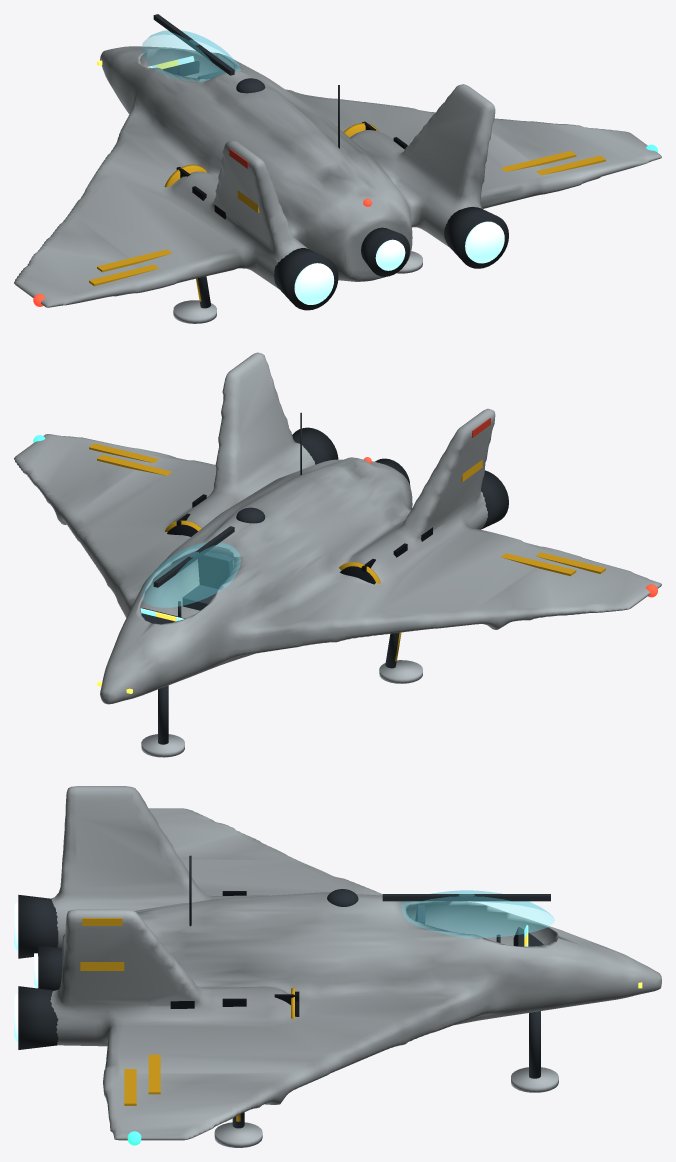
Rendered from lander.glb.
3 renders of one model, top to bottom at view 1: azimuth 30°, elevation 25°; view 2: azimuth 150°, elevation 25°; view 3: azimuth 270°, elevation 25°, orthographic. The views are drawn at different scales.
Parts seen in each view (by area): view 1: Hull, Canopy, Nozzle1, Nozzle-1, Exhaust1, Exhaust-1, CentreNozzle, GearLPad, CanopySpine, CentreExhaust, WingStripe-1, WingStripe1 (+2 smaller); view 2: Hull, Canopy, Nozzle-1, SeatBack, Nozzle1, GearLPad, GearNPad, CanopySpine, GearNStrut, Seat; view 3: Hull, Canopy, Nozzle1, Nozzle-1, CanopySpine, CentreNozzle, GearRPad, GearNPad, GearNStrut, WingStripe1.
Part boxes in pixels (box(x1,y1,x2,y2)): Hull: box(14, 46, 661, 307); Canopy: box(142, 30, 240, 81); Nozzle1: box(444, 207, 508, 268); Nozzle-1: box(274, 248, 338, 310); Exhaust1: box(465, 221, 504, 263); Exhaust-1: box(294, 263, 334, 304); CentreNozzle: box(361, 227, 410, 276); GearLPad: box(173, 300, 216, 323); CanopySpine: box(153, 14, 234, 75); CentreExhaust: box(375, 239, 405, 270); WingStripe-1: box(97, 249, 171, 272); WingStripe1: box(501, 151, 576, 171); Hull: box(14, 352, 661, 704); Canopy: box(142, 542, 240, 607); Nozzle-1: box(481, 470, 508, 529); SeatBack: box(198, 551, 232, 588); Nozzle1: box(292, 427, 338, 464); GearLPad: box(379, 660, 422, 683); GearNPad: box(141, 734, 184, 757); CanopySpine: box(153, 526, 234, 587); GearNStrut: box(158, 685, 168, 744); Seat: box(182, 585, 217, 610); Hull: box(50, 786, 661, 1140); Canopy: box(401, 890, 554, 937); Nozzle1: box(18, 986, 58, 1049); Nozzle-1: box(18, 894, 58, 958); CanopySpine: box(382, 894, 550, 901); CentreNozzle: box(38, 944, 62, 990); GearRPad: box(214, 1122, 262, 1147); GearNPad: box(511, 1067, 558, 1092); GearNStrut: box(529, 1011, 540, 1078); WingStripe1: box(148, 1054, 160, 1094).
Size of the model in its own units: 9.86 by 3.26 by 8.09.
